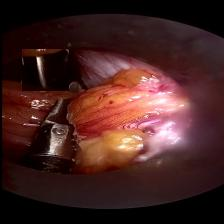Grasper: (21, 49, 67, 91)
Scissors: (25, 82, 80, 161)
